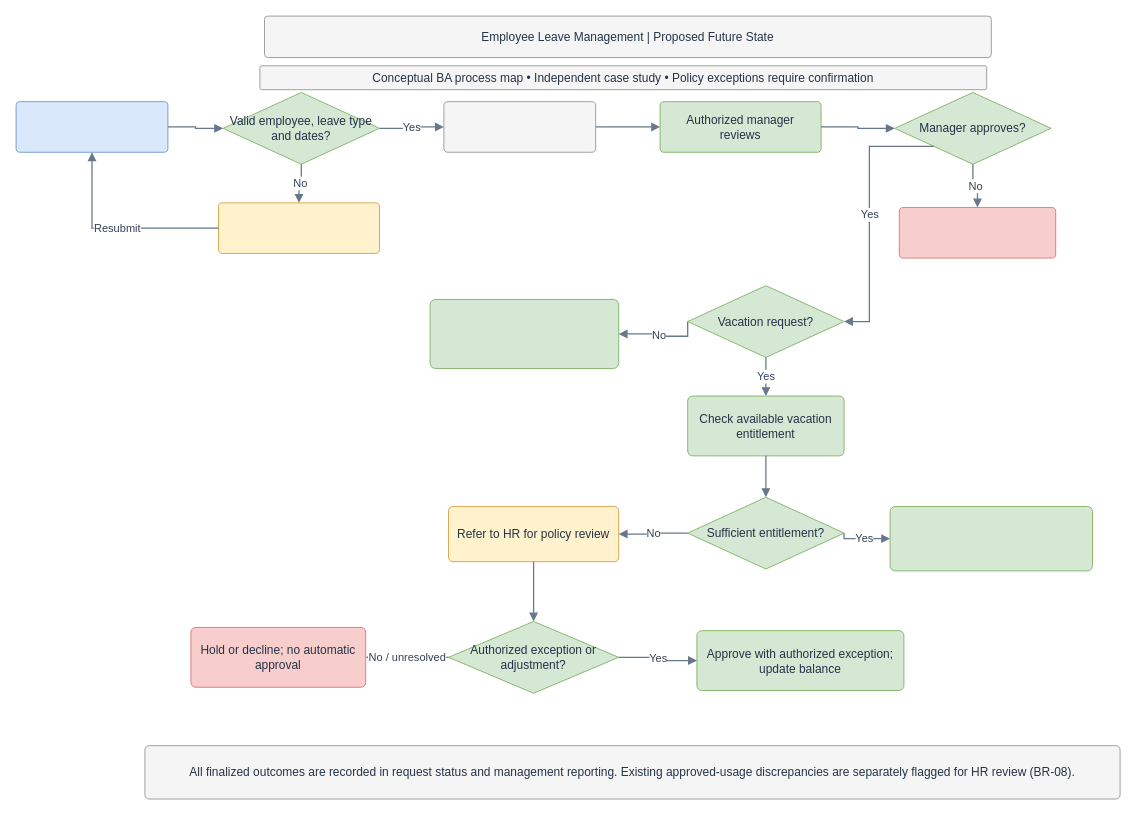
Image size: 1136x815. Some labels were removed from this diagram. Each missing label, with the box of its shape:
Approve non-vacation leave; vacation balance unchanged: (429, 299, 619, 368)
Approve vacation; update approved usage and balance: (889, 506, 1092, 571)
Record Pending status: (443, 101, 596, 152)
Record Rejected status: (898, 207, 1056, 258)
Return for correction: (218, 202, 380, 253)
Submit leave request: (15, 101, 168, 152)
